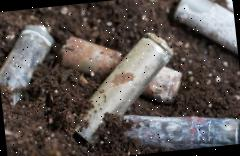electronic: (58, 10, 192, 154)
